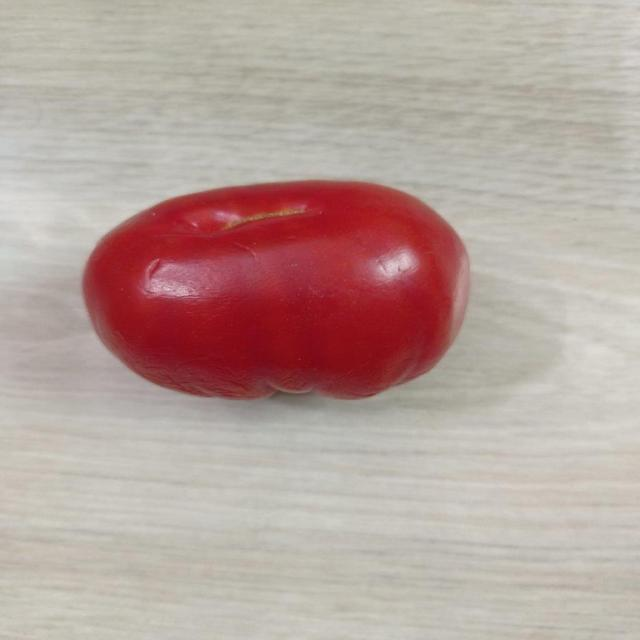Tomato: (78, 175, 480, 410)
